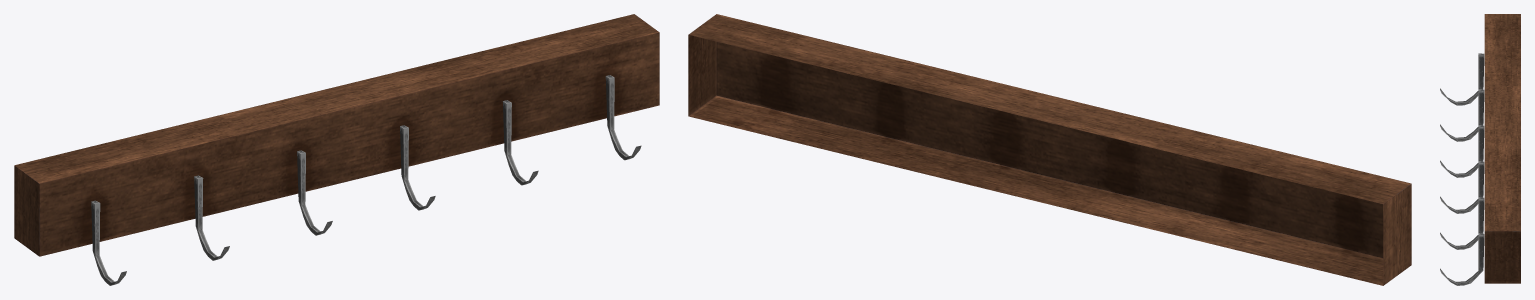
Rendered from hanger.fbx.
3 views of the same model, side by side, from view 1: azimuth 30°, elevation 25°; view 2: azimuth 150°, elevation 25°; view 3: azimuth 270°, elevation 25° (orthographic). The views are drawn at different scales.
Visible parts, largest first — view 1: kitchenhanger; view 2: kitchenhanger; view 3: kitchenhanger.
Boxes of the visible parts, box(x1,y1,x2,y2) form: kitchenhanger: box(14, 14, 659, 285); kitchenhanger: box(688, 14, 1411, 285); kitchenhanger: box(1440, 14, 1520, 285).
Size of the model in its own units: 198 by 30.64 by 31.15.
